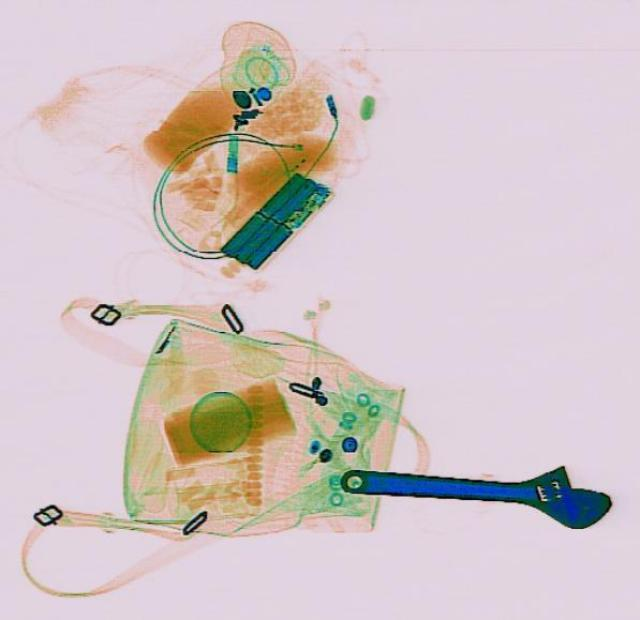Wrench: (334, 447, 614, 528)
